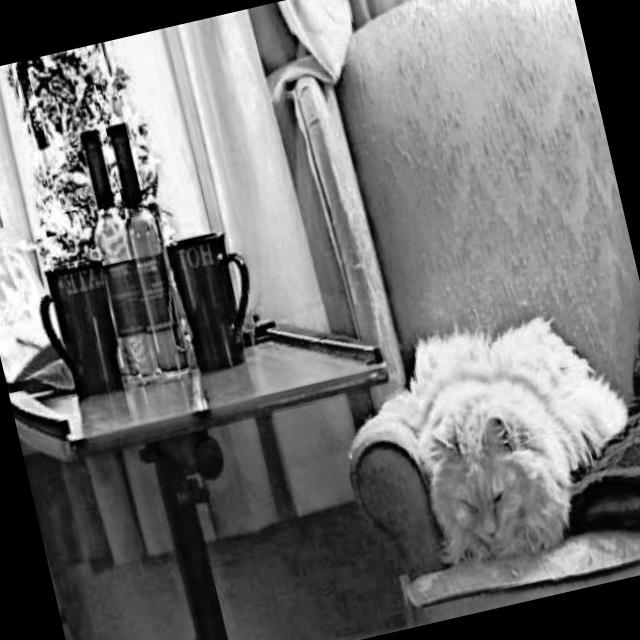Cat: (385, 290, 640, 573)
